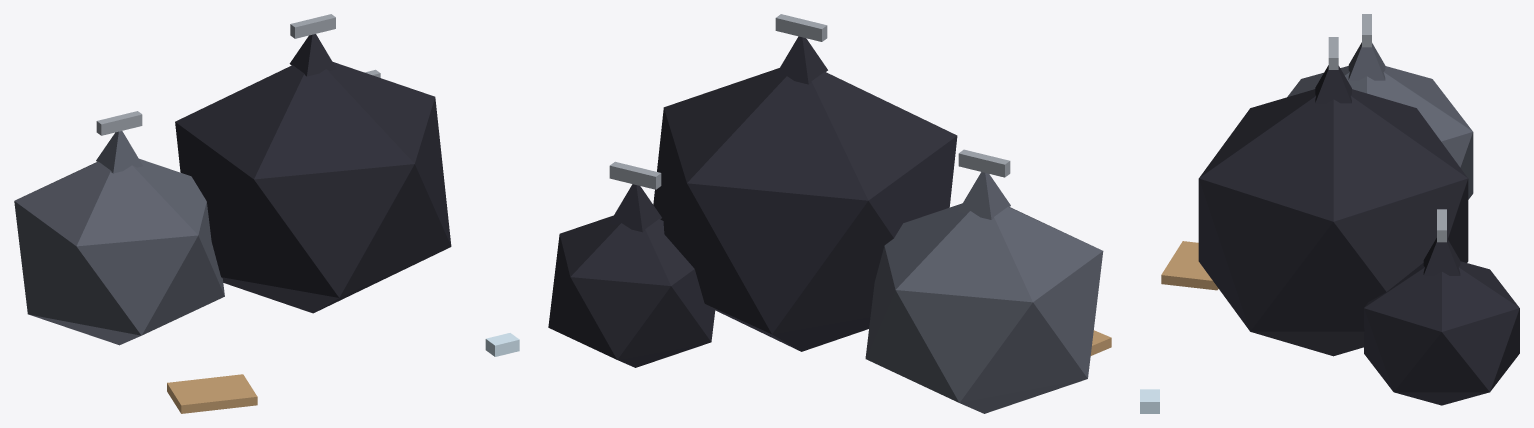
Rendered from CatCafe_Alley_GarbageBags.glb.
3 renders of one model, left to right at view 1: azimuth 30°, elevation 25°; view 2: azimuth 150°, elevation 25°; view 3: azimuth 270°, elevation 25°, orthographic. The views are drawn at different scales.
Parts seen in each view (by area): view 1: CatCafe_Alley_GarbageBags; view 2: CatCafe_Alley_GarbageBags; view 3: CatCafe_Alley_GarbageBags.
Part boxes in pixels (box(x1,y1,x2,y2)): CatCafe_Alley_GarbageBags: box(14, 14, 519, 413); CatCafe_Alley_GarbageBags: box(548, 14, 1111, 413); CatCafe_Alley_GarbageBags: box(1140, 14, 1519, 413).
Bounding box in the file's own units: 3.16 × 2.05 × 2.28.
1 material, 1 textured.
